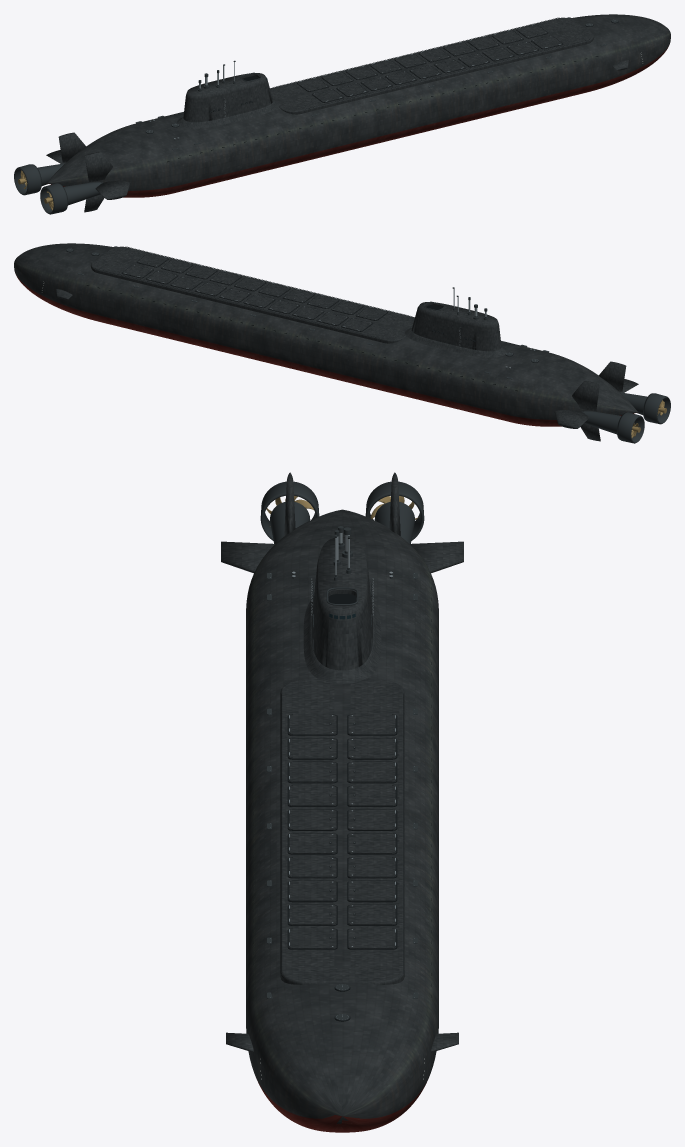
Rendered from RU_SSBN_Typhoon_LOD1.fbx.
3 renders of one model, top to bottom at view 1: azimuth 30°, elevation 25°; view 2: azimuth 150°, elevation 25°; view 3: azimuth 270°, elevation 25°, orthographic. The views are drawn at different scales.
Visible parts, largest first — view 1: SM_Typhoon_LOD1; view 2: SM_Typhoon_LOD1; view 3: SM_Typhoon_LOD1.
Boxes of the visible parts, left/top/right/bottom form: SM_Typhoon_LOD1: left=14, top=14, right=670, bottom=214; SM_Typhoon_LOD1: left=14, top=243, right=670, bottom=443; SM_Typhoon_LOD1: left=221, top=472, right=463, bottom=1132.
Size of the model in its own units: 175 by 29 by 28.33.
